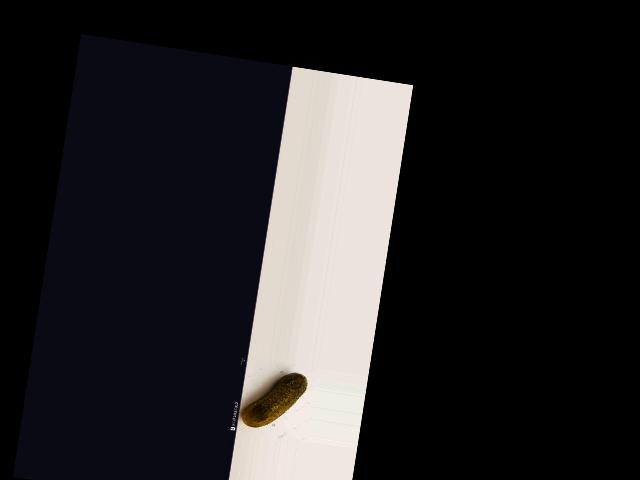cucumber: (240, 365, 308, 434)
